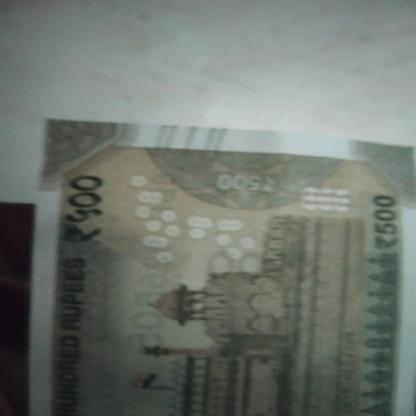New500Back: (42, 123, 416, 416)
